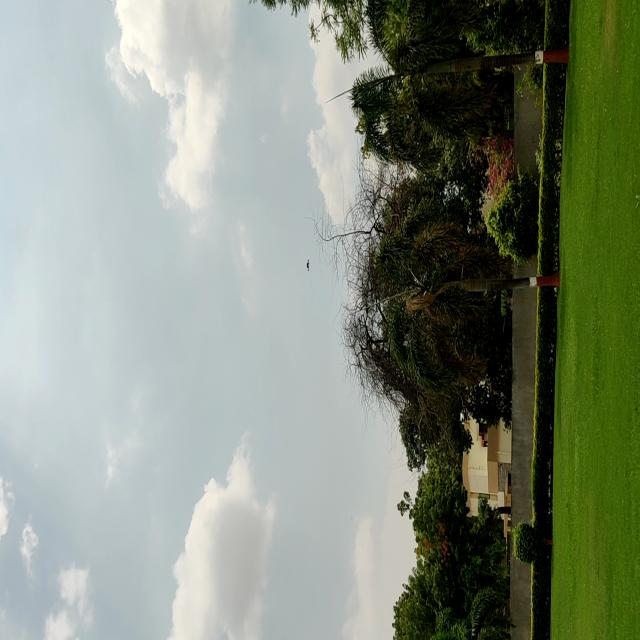drone: (302, 256, 316, 274)
